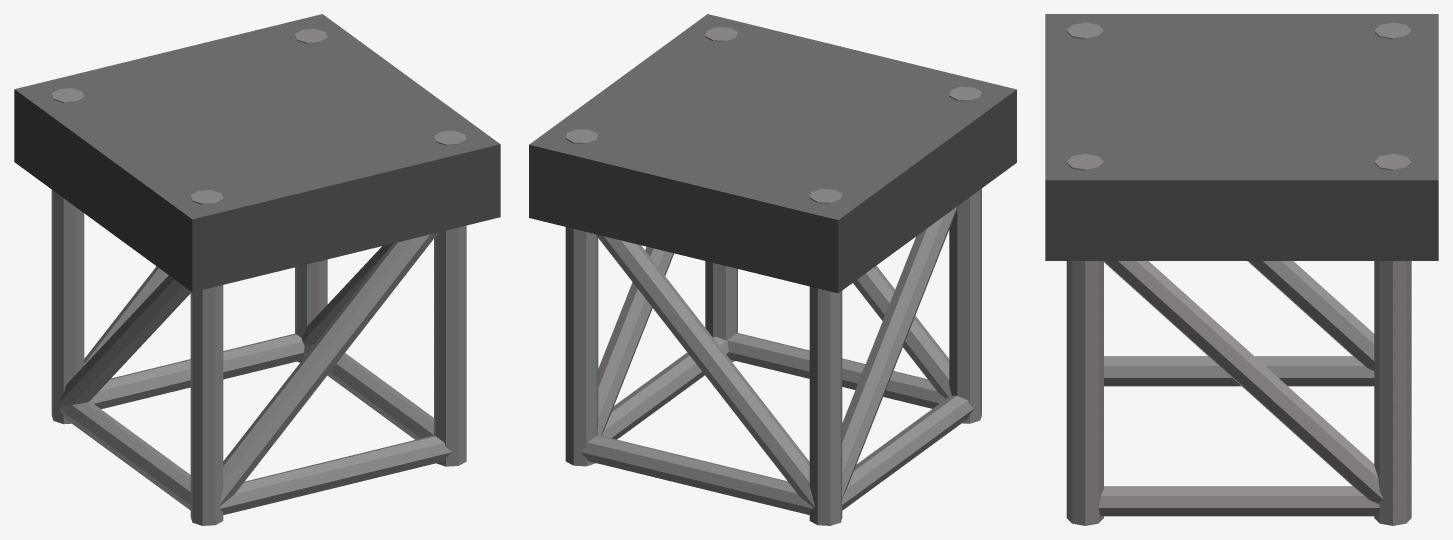
The model's file is PlataformaVasado.glb.
3 views of the same model, side by side, from view 1: azimuth 30°, elevation 25°; view 2: azimuth 150°, elevation 25°; view 3: azimuth 270°, elevation 25° (orthographic). The views are drawn at different scales.
Parts seen in each view (by area): view 1: PlataformaVasado; view 2: PlataformaVasado; view 3: PlataformaVasado.
Boxes of the visible parts, x1,y1,x2,y2 form: PlataformaVasado: (14, 14, 500, 525); PlataformaVasado: (529, 14, 1016, 525); PlataformaVasado: (1045, 14, 1438, 525).
Size of the model in its own units: 2 by 2 by 2.
1 material, 1 textured.
